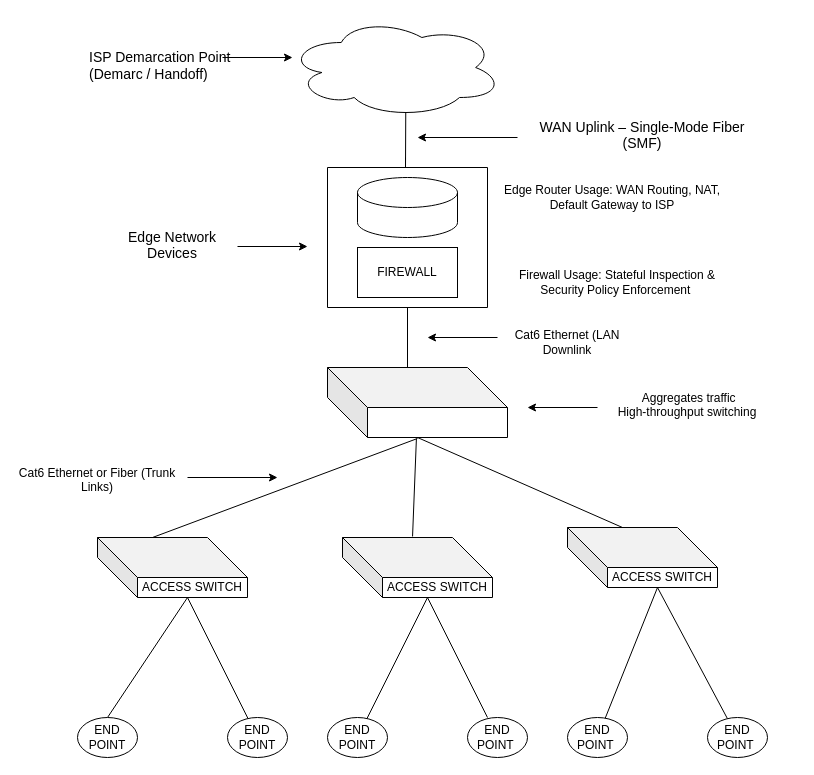
Some shapes in this 814 by 775 pixel diagram are drawn without their labels. Here are the shapes that lost their labels. From the top down, the centre of each, then its label:
At [394,67]: "INTERNET ISP".
At [407,207]: "EDGE ROUTER".
At [417,402]: "CORE SWITCH".
